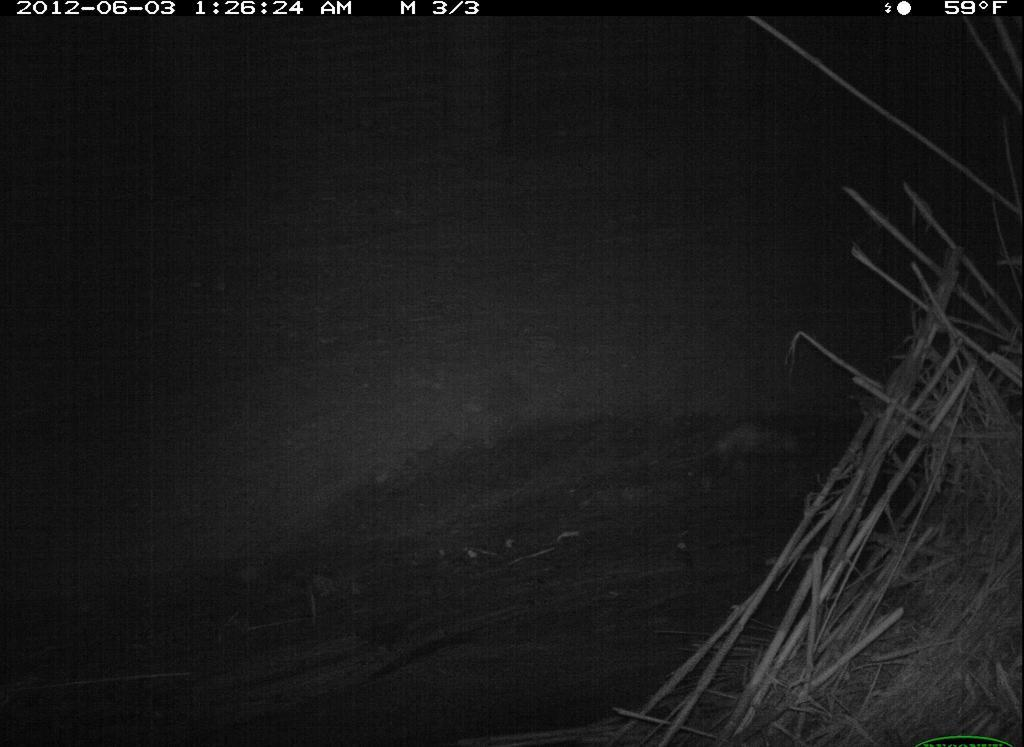opossum: (693, 408, 813, 482)
